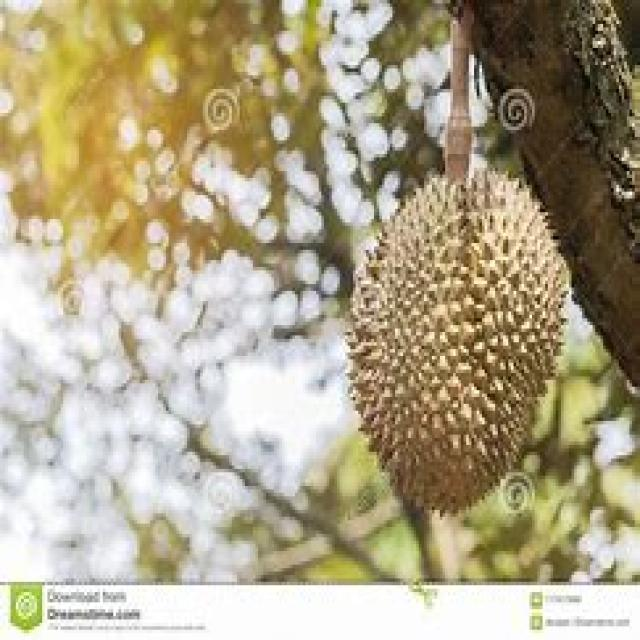mature: (348, 171, 569, 512)
